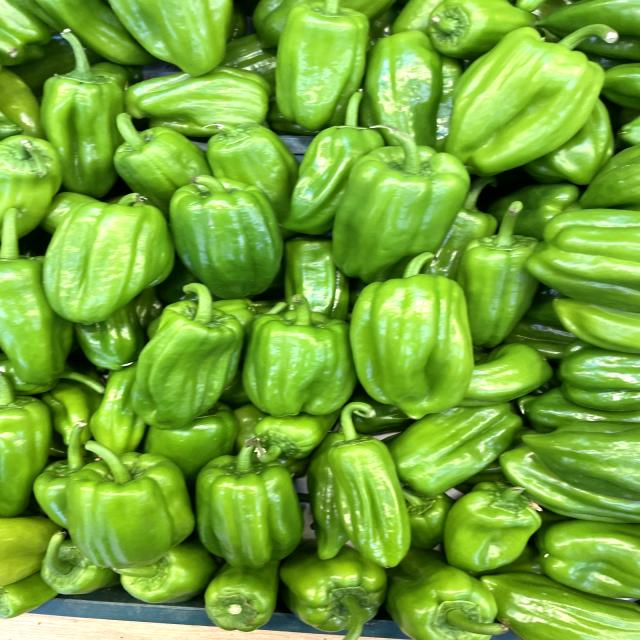bell pepper: (437, 9, 624, 170), (331, 118, 469, 284), (25, 181, 183, 325), (302, 391, 426, 571), (125, 275, 247, 428), (52, 438, 192, 568), (164, 167, 288, 300), (193, 431, 304, 571)
